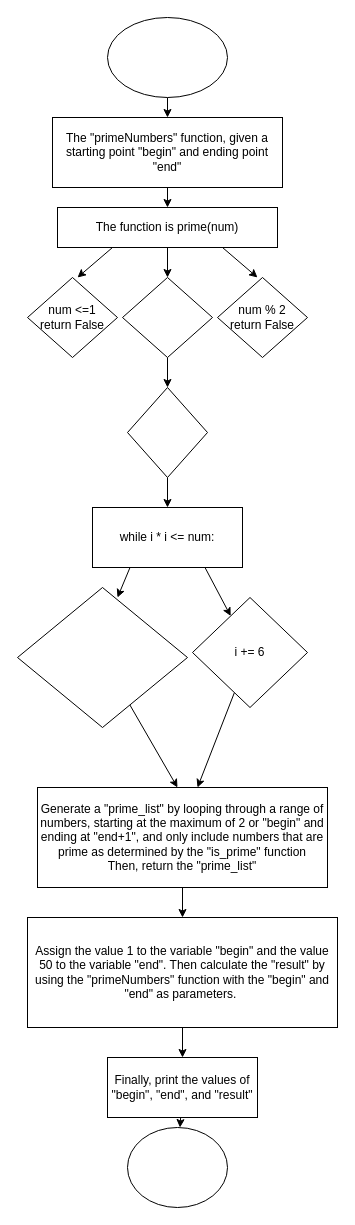
Some shapes in this 355 by 1225 pixel diagram are drawn without their labels. Here are the shapes that lost their labels. From the top down, the box of each, then its label:
(106, 16, 228, 98): Start
(122, 276, 212, 358): num <= 3 return True
(126, 386, 208, 478): i = 5
(16, 586, 188, 728): If num % i == 0 or num % (i +2) == 0 return False
(126, 1126, 228, 1208): End
